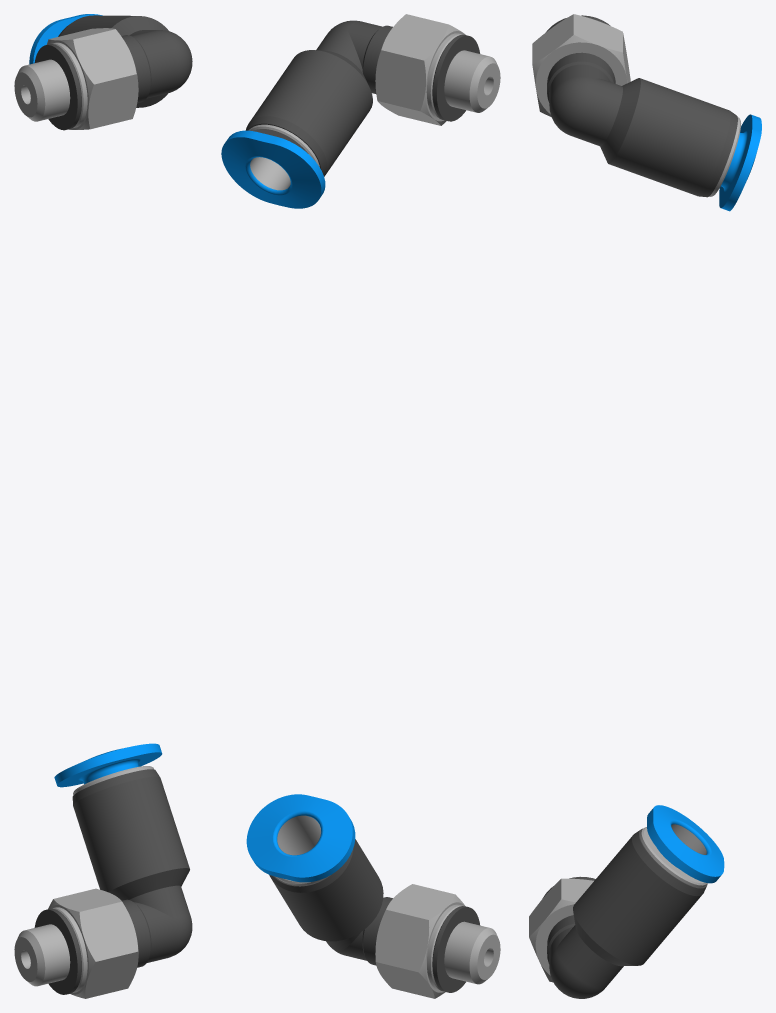
File: cylinder_connectors1.obj
3 views of the same model, side by side, from view 1: azimuth 30°, elevation 25°; view 2: azimuth 150°, elevation 25°; view 3: azimuth 270°, elevation 25° (orthographic).
Parts seen in each view (by area): view 1: Solid2:1, Solid2; view 2: Solid2, Solid2:1; view 3: Solid2, Solid2:1.
Boxes of the visible parts, <box> form: Solid2:1: <box>14,743,192,998</box>; Solid2: <box>14,14,192,130</box>; Solid2: <box>221,14,500,208</box>; Solid2:1: <box>246,794,500,998</box>; Solid2: <box>532,14,761,211</box>; Solid2:1: <box>529,805,724,998</box>.
Size of the model in its own units: 0.0184 by 0.0918 by 0.0203.
